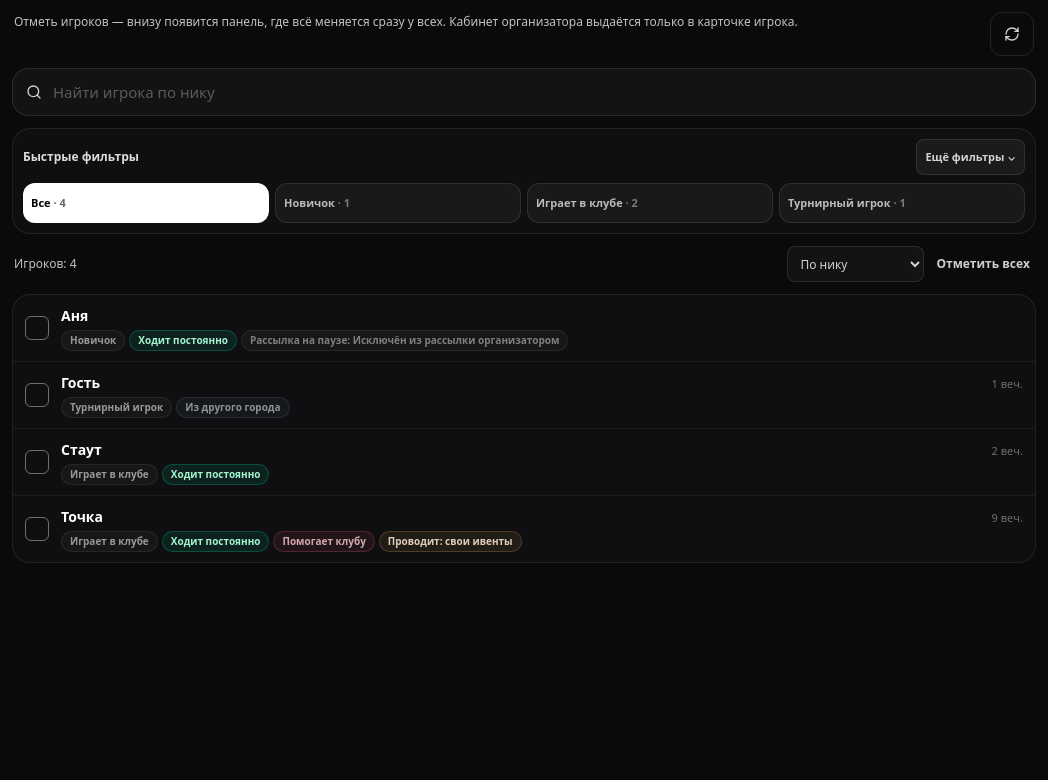
Scenario: «Уровни и роли» › shows what will change, saves «Может проводить» and reports the result by the button
The width and height of the screenshot is (1048, 780).
Click the text "Стаут". click: (81,450)
box: [61,440,102,459]
(page scrolled)
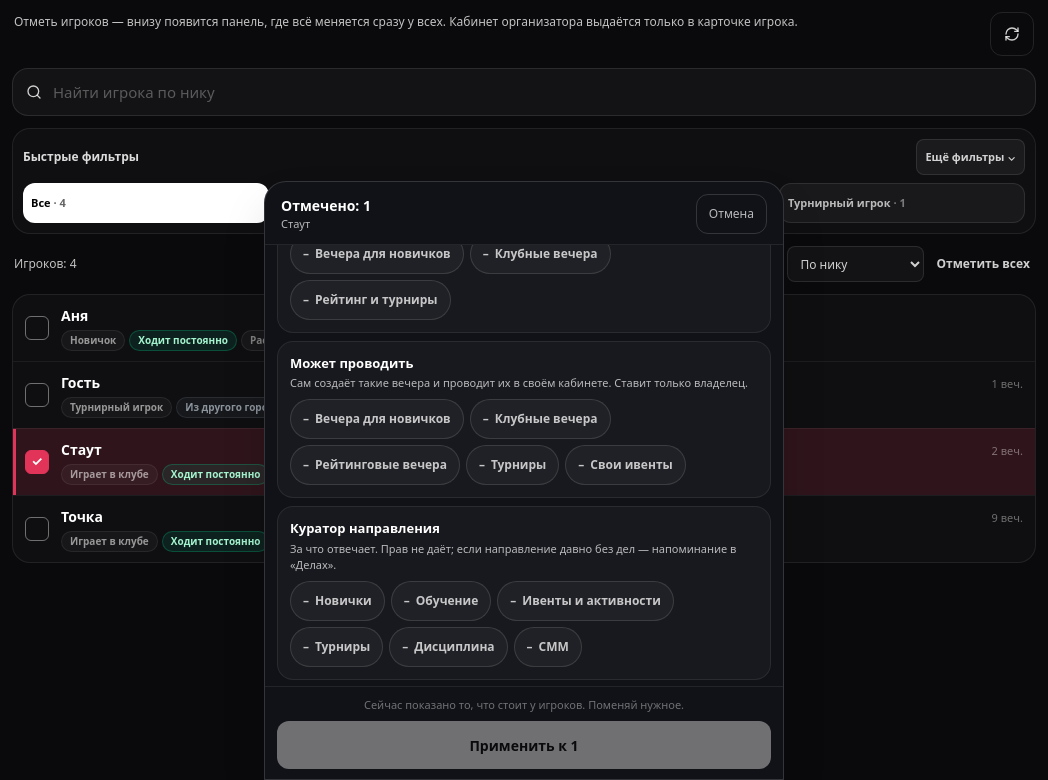
Note: Marks are tap chips now (owner, 2026-10-01): one tap flips what the player has.
Click the button with aria-label "Может проводить: Турниры". click: (513,466)
box: [466,446,559,486]
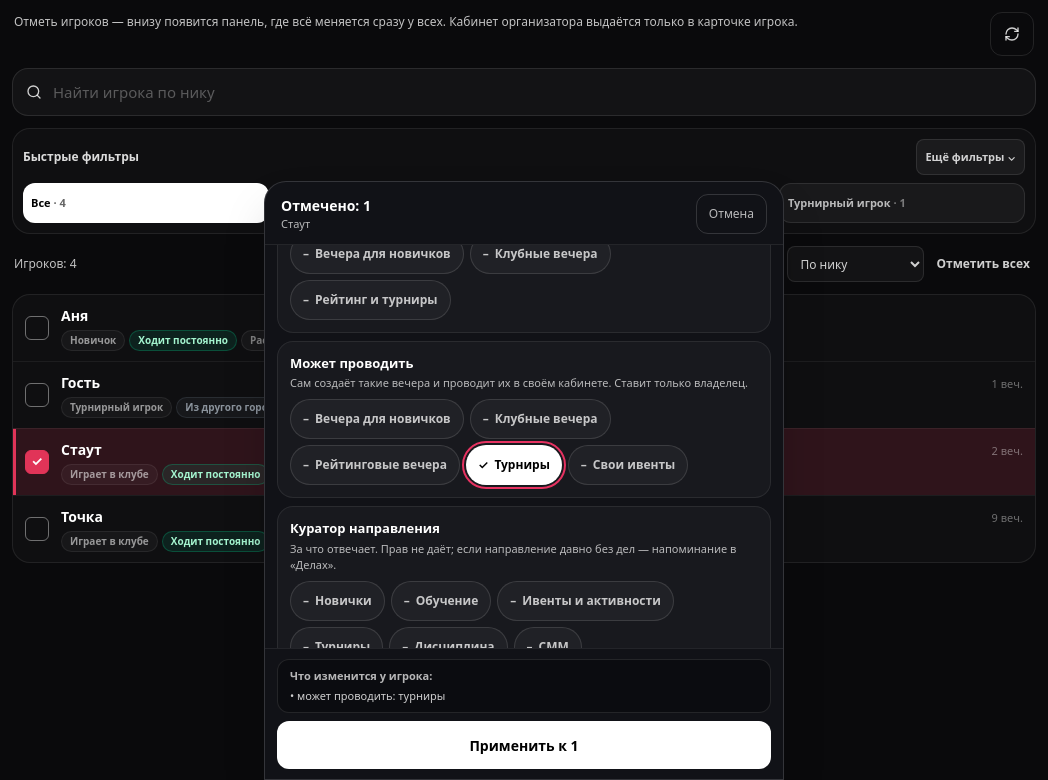
Now the element with test id "crm-access-bulk-summary" shows "может проводить: турниры", box [297,688,445,703]
Click the button "Применить к 1". click: (524,745)
box: [277,721,771,769]
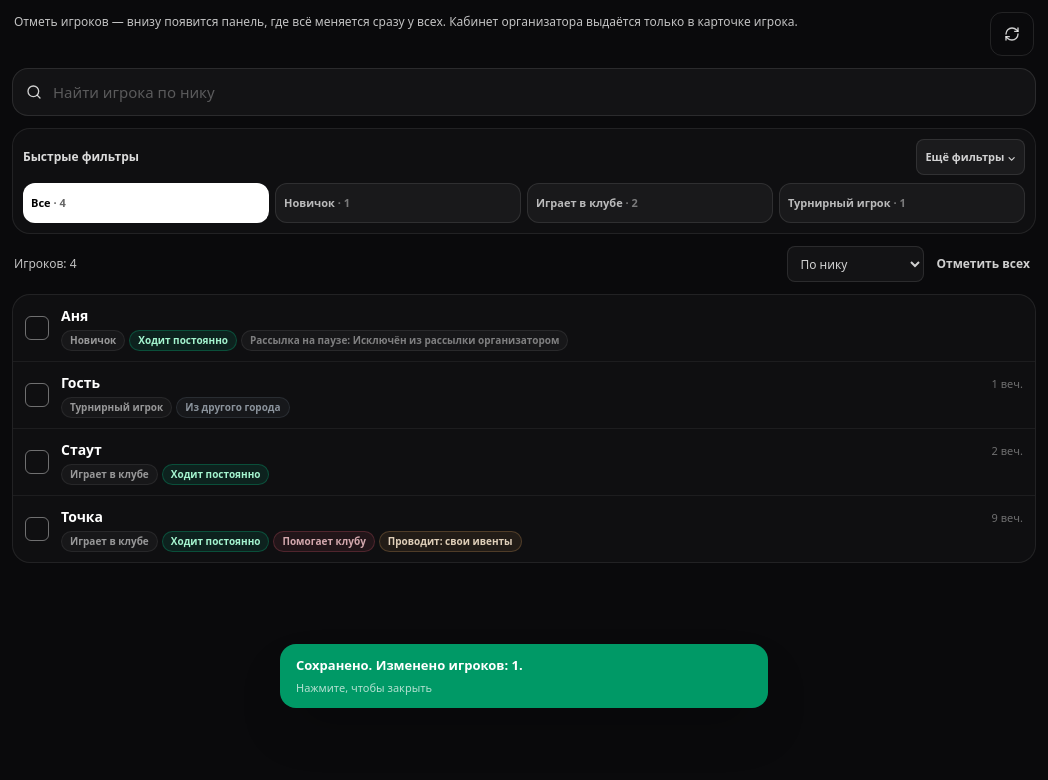
Now the element with test id "crm-access-bulk-toast" shows "Сохранено", box [280,644,768,708]
